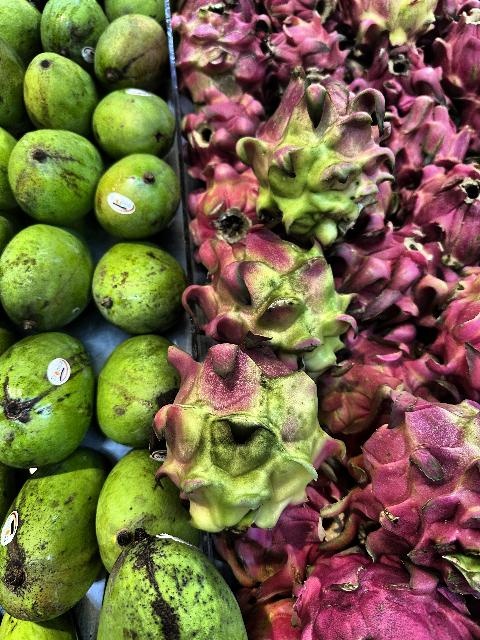buah-naga-belum-matang: (143, 324, 335, 534), (344, 378, 480, 596), (191, 218, 361, 369), (261, 68, 393, 242), (171, 1, 267, 99), (332, 0, 440, 42)
buah-naga-matang: (282, 542, 480, 640), (331, 217, 451, 325), (309, 326, 437, 422), (400, 159, 480, 267), (182, 157, 278, 241), (383, 85, 473, 163), (176, 85, 268, 159), (356, 40, 446, 106), (266, 14, 348, 78), (430, 10, 480, 96)
